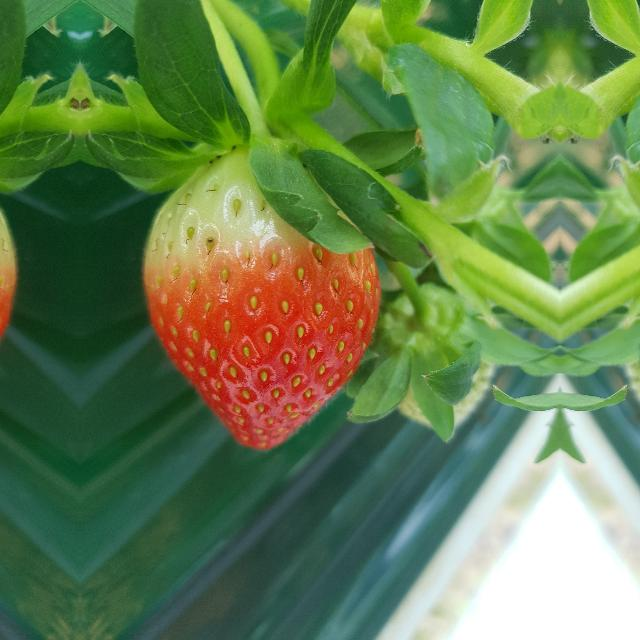Health_75: (141, 144, 381, 450)
